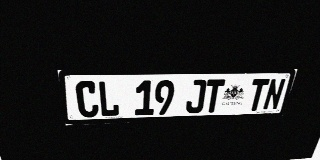1: (135, 80, 155, 116)
9: (154, 80, 175, 115)
C: (75, 81, 99, 118)
J: (185, 79, 207, 113)
L: (97, 81, 119, 117)
N: (262, 78, 286, 110)
T: (246, 79, 270, 111), (203, 79, 225, 113)
